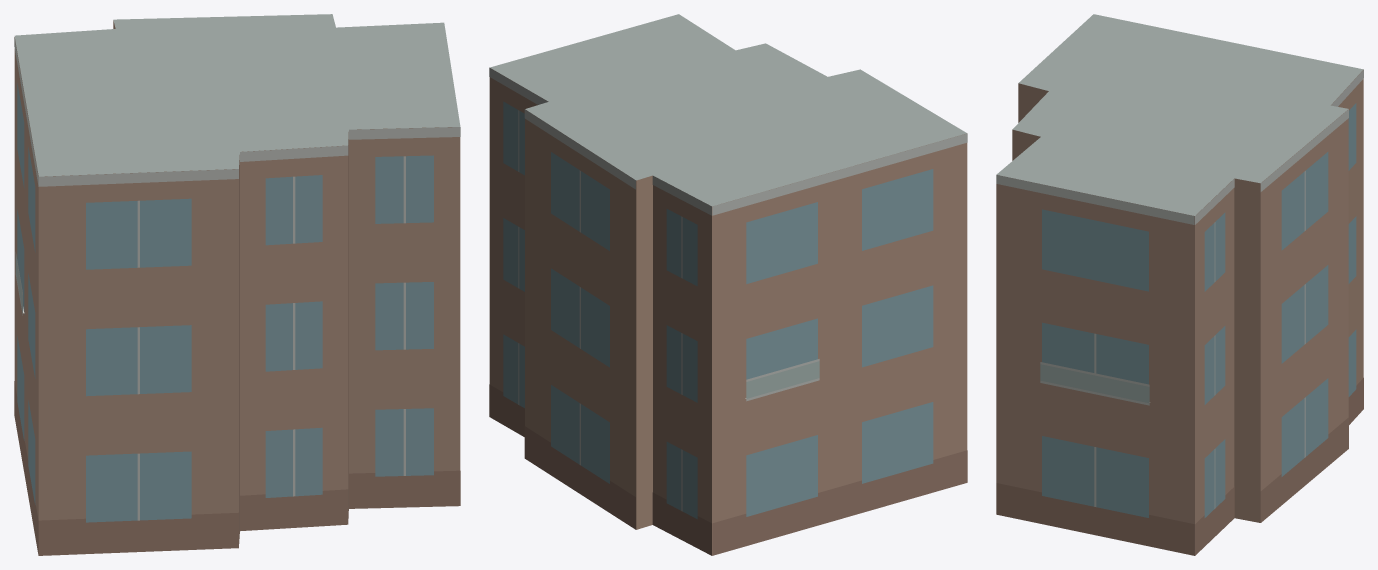
File: survey-upis-32965901.glb
3 views of the same model, side by side, from view 1: azimuth 30°, elevation 25°; view 2: azimuth 150°, elevation 25°; view 3: azimuth 270°, elevation 25° (orthographic). The views are drawn at different scales.
Parts seen in each view (by area): view 1: survey-upis-32965901.tmp; view 2: survey-upis-32965901.tmp; view 3: survey-upis-32965901.tmp.
Part boxes in pixels (x1,y1,x2,y2): survey-upis-32965901.tmp: (14, 14, 460, 555); survey-upis-32965901.tmp: (489, 14, 967, 555); survey-upis-32965901.tmp: (996, 14, 1363, 555).
Size of the model in its own units: 11.61 by 9.1 by 8.93.
